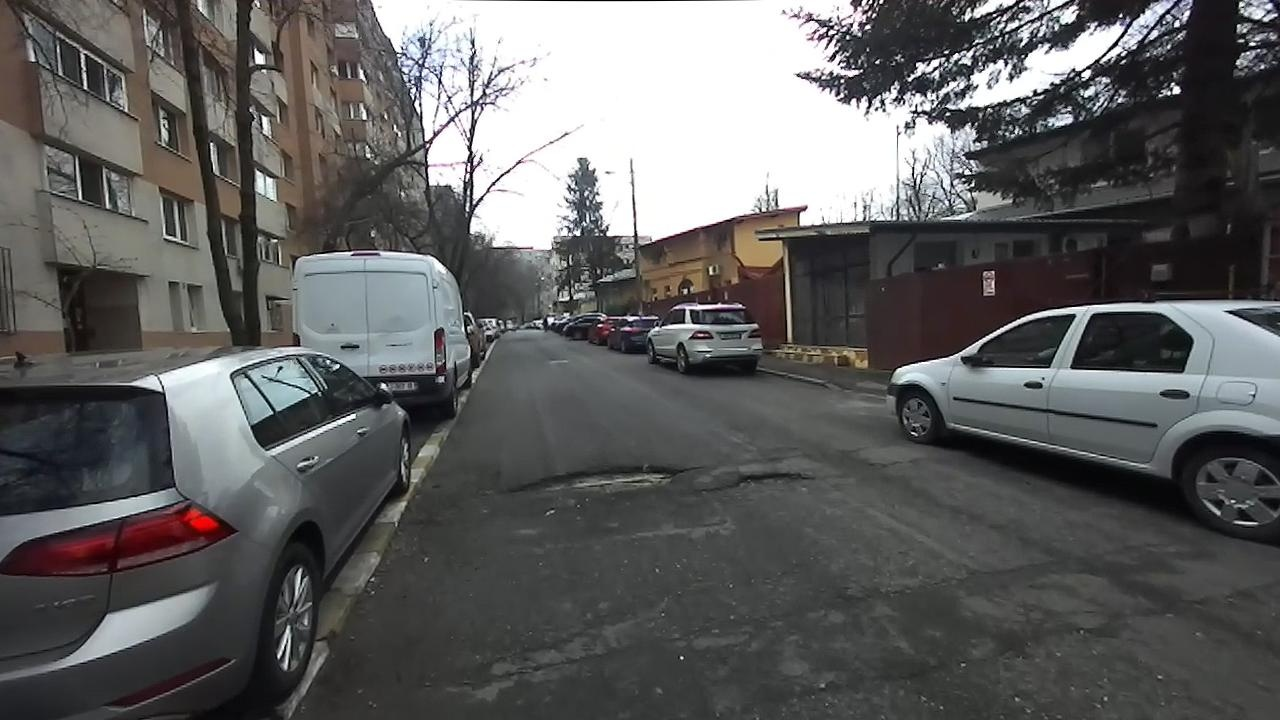pothole: (502, 460, 694, 500), (706, 466, 817, 494)
